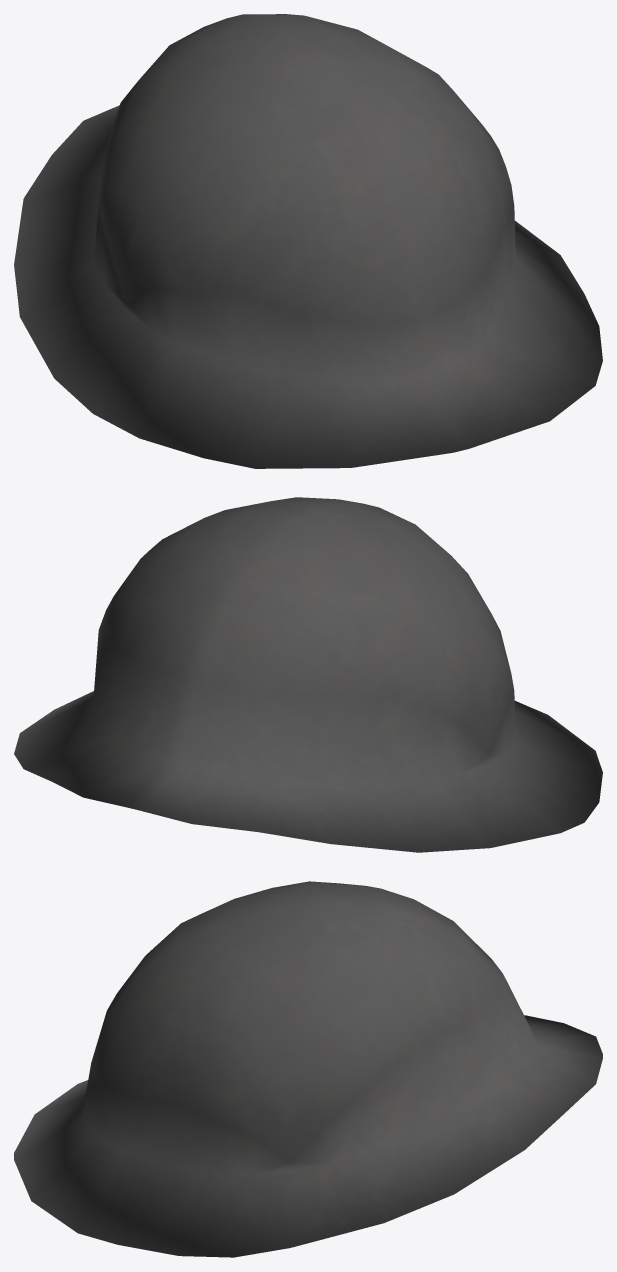
Rendered from Brodie Helmet.obj.
3 views of the same model, one above another, from view 1: azimuth 30°, elevation 25°; view 2: azimuth 150°, elevation 25°; view 3: azimuth 270°, elevation 25° (orthographic). The views are drawn at different scales.
Visible parts, largest first — view 1: Cube; view 2: Cube; view 3: Cube.
Boxes of the visible parts, x1,y1,x2,y2 form: Cube: (14, 14, 602, 468); Cube: (14, 497, 602, 852); Cube: (14, 881, 602, 1257).
Size of the model in its own units: 9.06 by 4.97 by 10.15.
